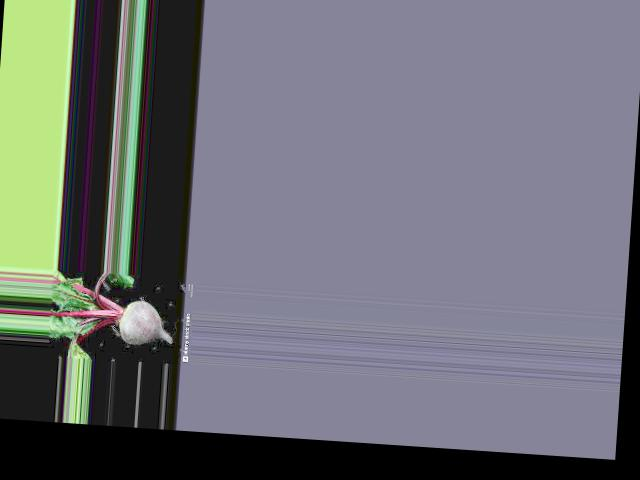beet: (47, 268, 176, 364)
